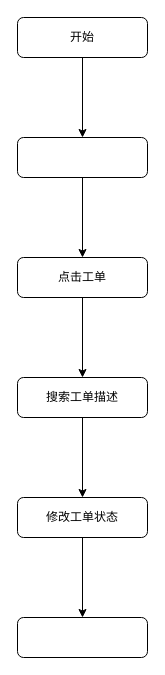
The diagram is 165 pixels wide and 675 high, and some of its shapes have lost their labels. Each missing label, with the box of its shape:
截图点击保存记录: (16, 616, 148, 658)
点击工作: (16, 136, 148, 178)
